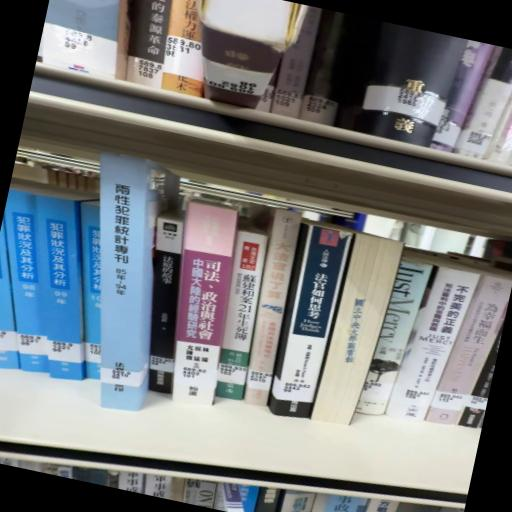backward: (310, 233, 404, 426)
book: (47, 152, 194, 421), (150, 202, 258, 414), (265, 224, 355, 429)
